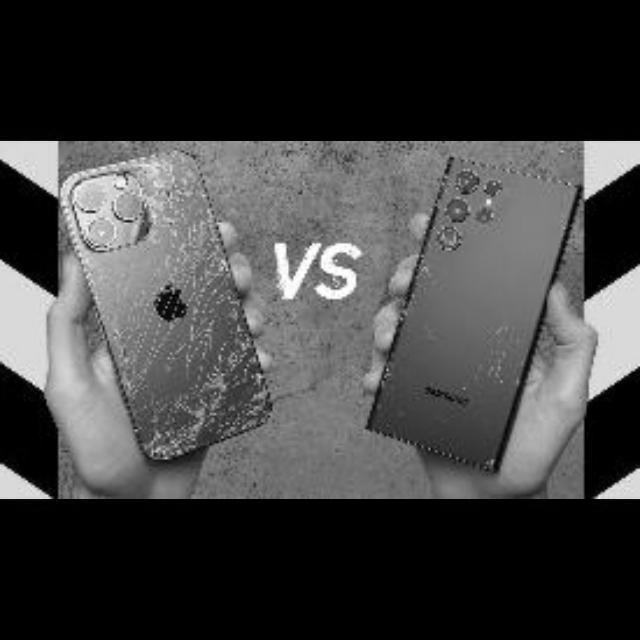fake: (318, 152, 586, 489), (36, 156, 296, 458)
